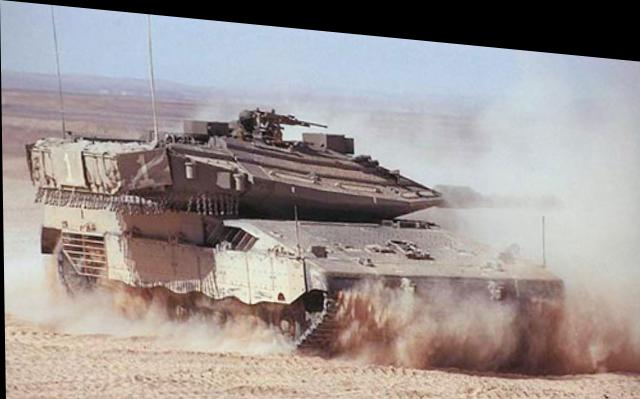tank: (19, 76, 576, 370)
